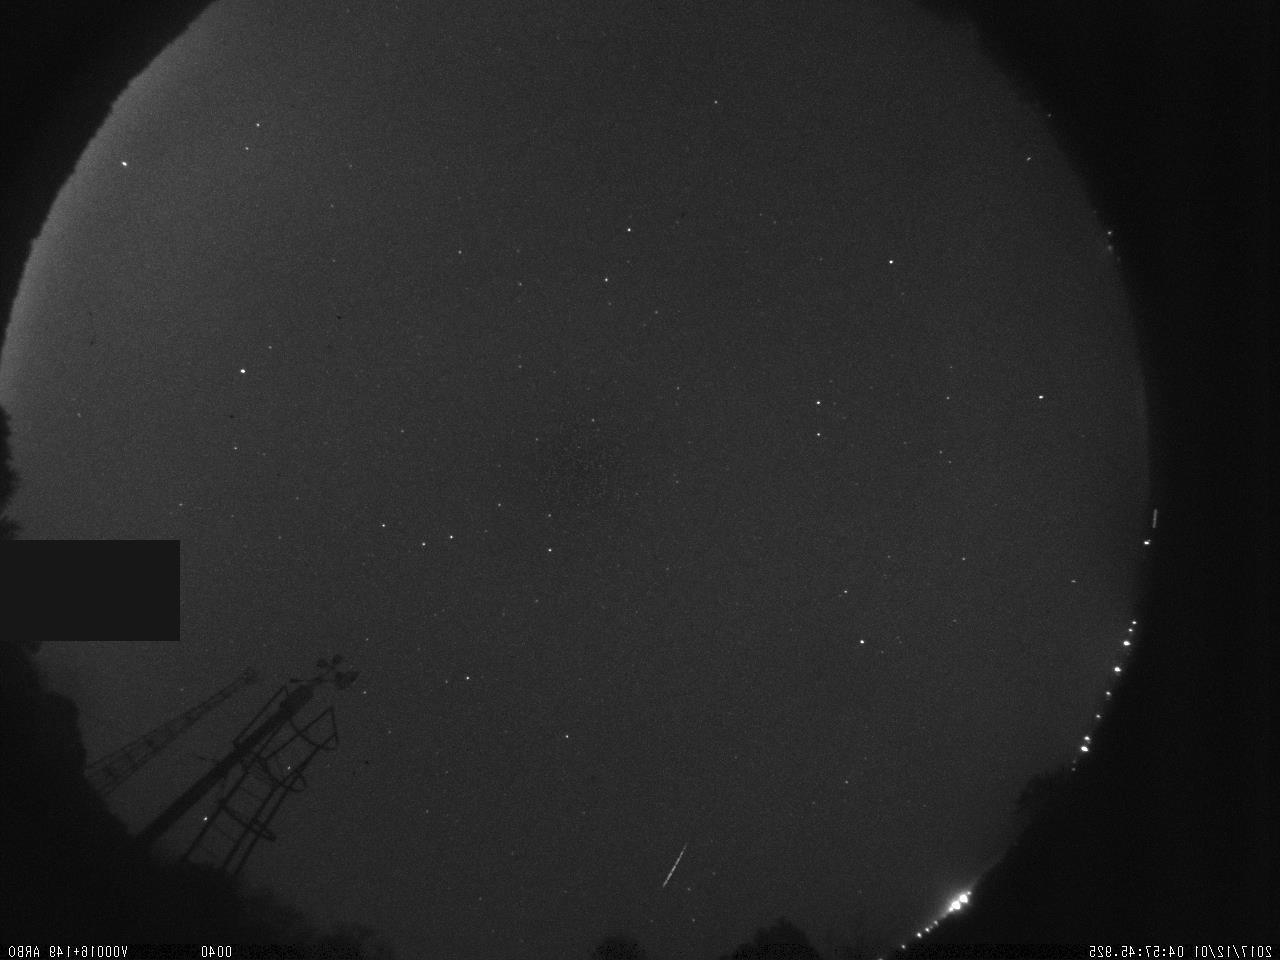meteor: (639, 830, 714, 901)
